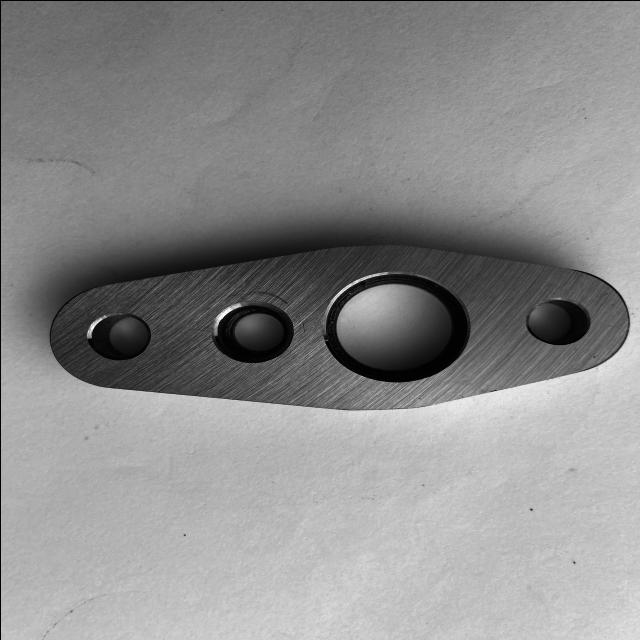lines: (217, 291, 292, 297), (276, 294, 291, 307), (298, 316, 308, 334)
